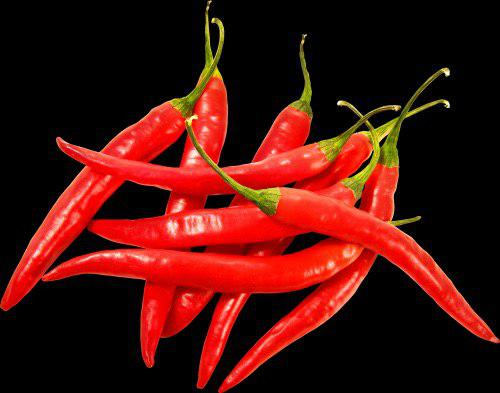lada merah: (1, 81, 196, 321), (223, 160, 422, 393), (260, 185, 500, 348), (56, 103, 371, 195), (80, 167, 368, 257), (28, 229, 361, 299)
